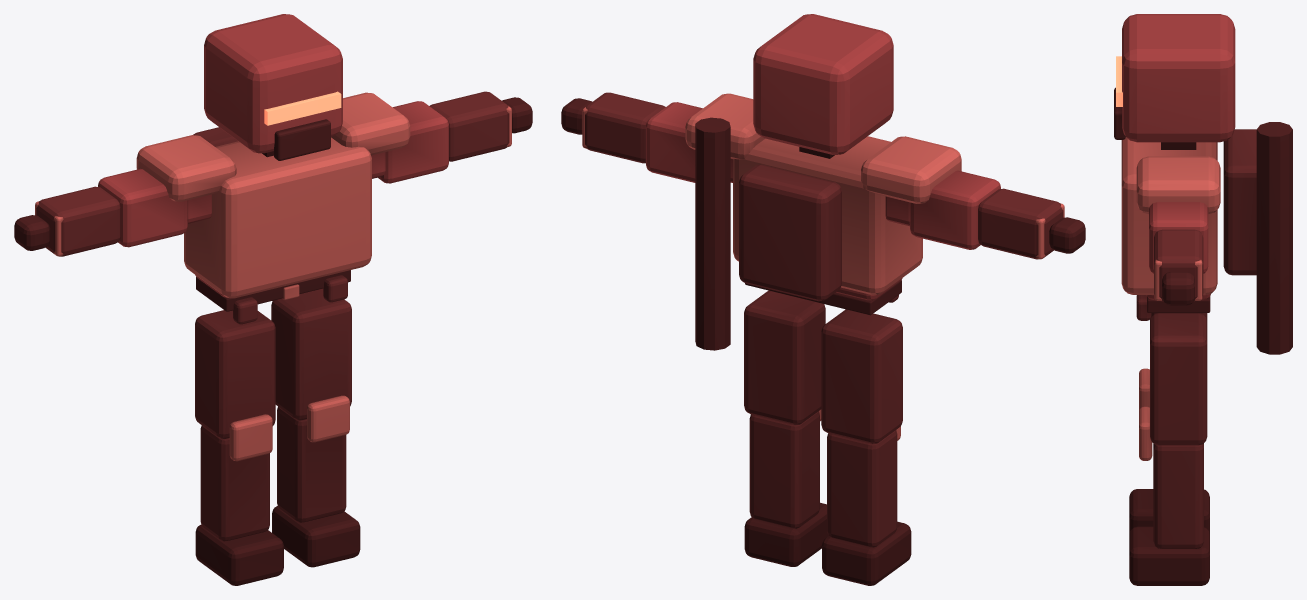
File: enemy_heavy.glb
3 renders of one model, left to right at view 1: azimuth 30°, elevation 25°; view 2: azimuth 150°, elevation 25°; view 3: azimuth 270°, elevation 25°, orthographic.
Visible parts, largest first — view 1: heavy; view 2: heavy; view 3: heavy.
Boxes of the visible parts, <box> form: heavy: <box>14,14,532,585</box>; heavy: <box>561,14,1085,585</box>; heavy: <box>1114,14,1292,585</box>.
Bounding box in the file's own units: 1.98 × 1.93 × 0.5945.
